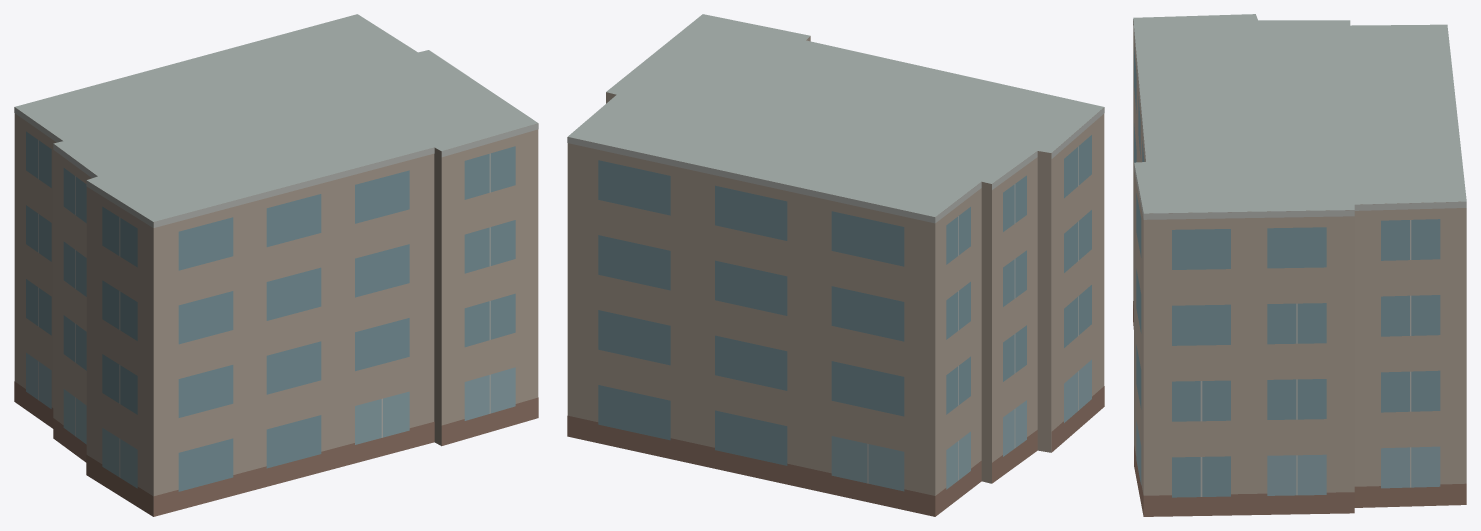
File: survey-upis-32928097.glb
3 views of the same model, side by side, from view 1: azimuth 30°, elevation 25°; view 2: azimuth 150°, elevation 25°; view 3: azimuth 270°, elevation 25° (orthographic). The views are drawn at different scales.
Visible parts, largest first — view 1: survey-upis-32928097.tmp; view 2: survey-upis-32928097.tmp; view 3: survey-upis-32928097.tmp.
Part boxes in pixels (<box>): survey-upis-32928097.tmp: <box>14,14,538,516</box>; survey-upis-32928097.tmp: <box>567,14,1104,516</box>; survey-upis-32928097.tmp: <box>1133,14,1466,516</box>.
Bounding box in the file's own units: 16.52 × 11.7 × 11.67.
